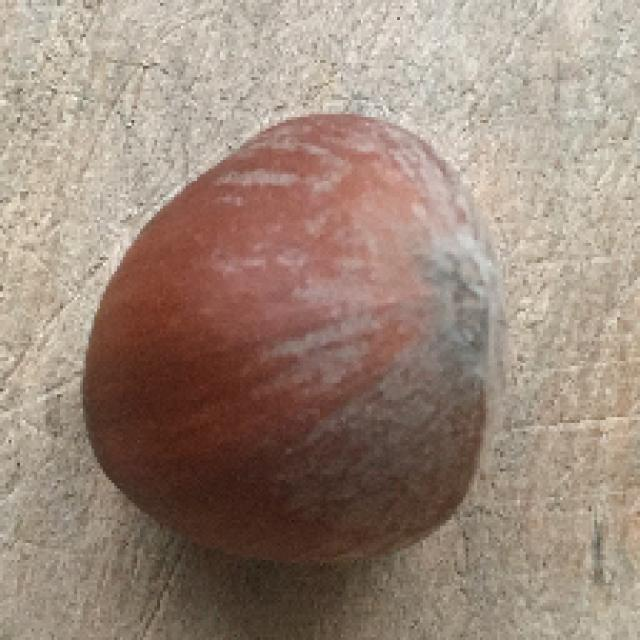qualityHazelnut: (74, 113, 508, 573)
